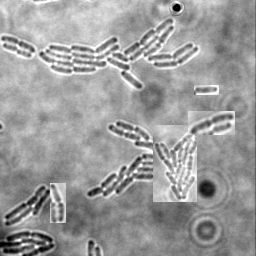Dividing: (188, 111, 235, 135), (1, 34, 37, 52), (50, 183, 66, 223), (3, 41, 33, 57), (194, 85, 219, 95)
Microcolony: (40, 18, 199, 89), (87, 120, 181, 197), (153, 125, 197, 202), (5, 184, 52, 226), (1, 230, 56, 255)
